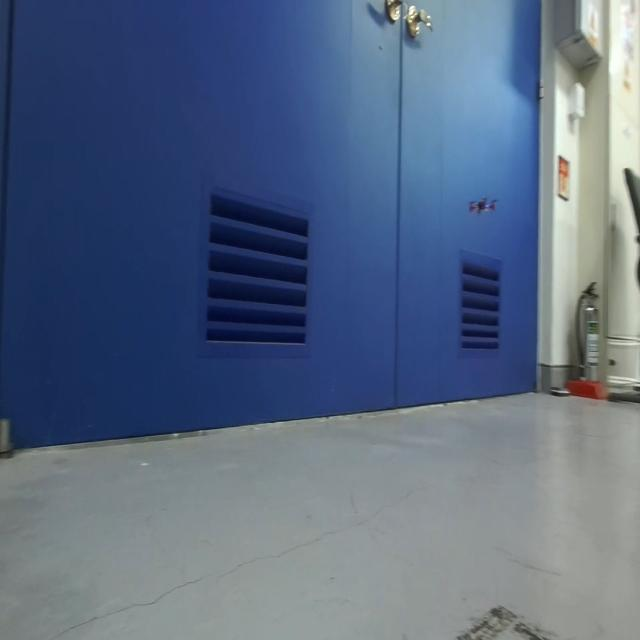crazyflie: (466, 188, 501, 222)
